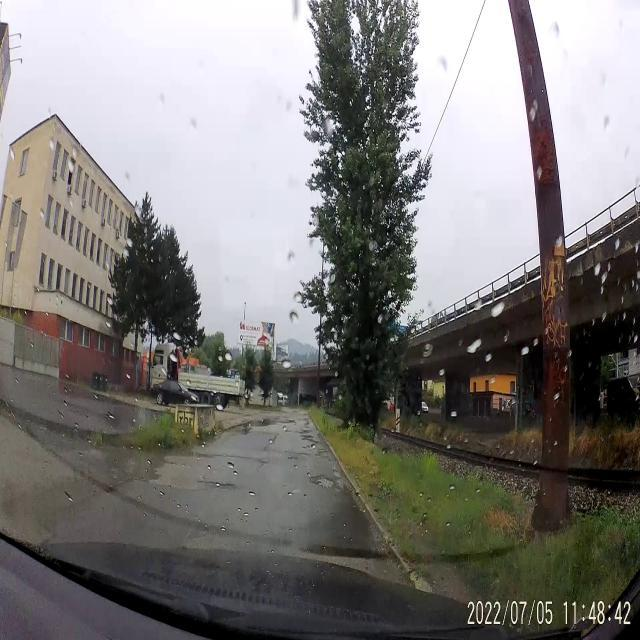Pothole: (303, 468, 348, 498), (198, 472, 242, 494), (298, 420, 320, 458)
